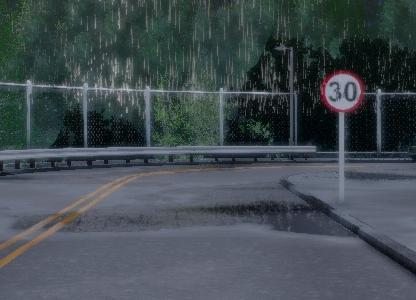Speed_30: (318, 70, 366, 114)
